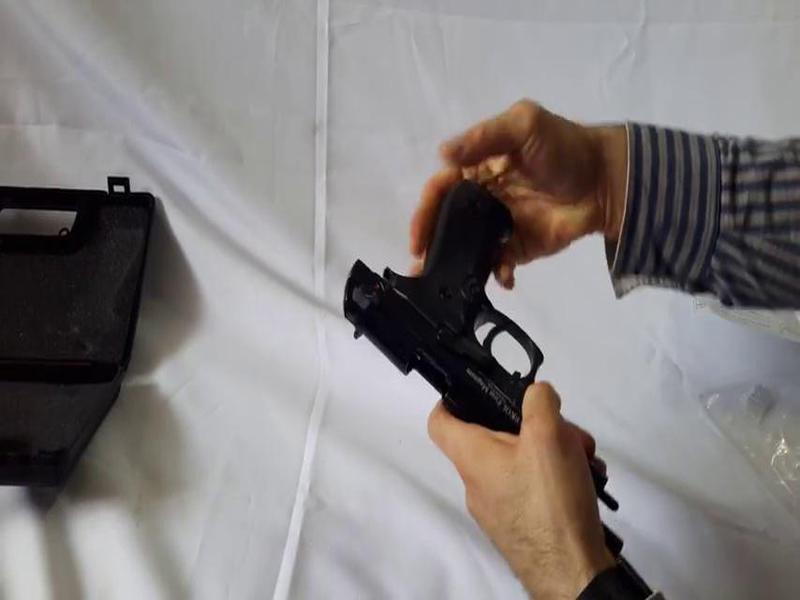Pistola: (312, 145, 647, 547)
